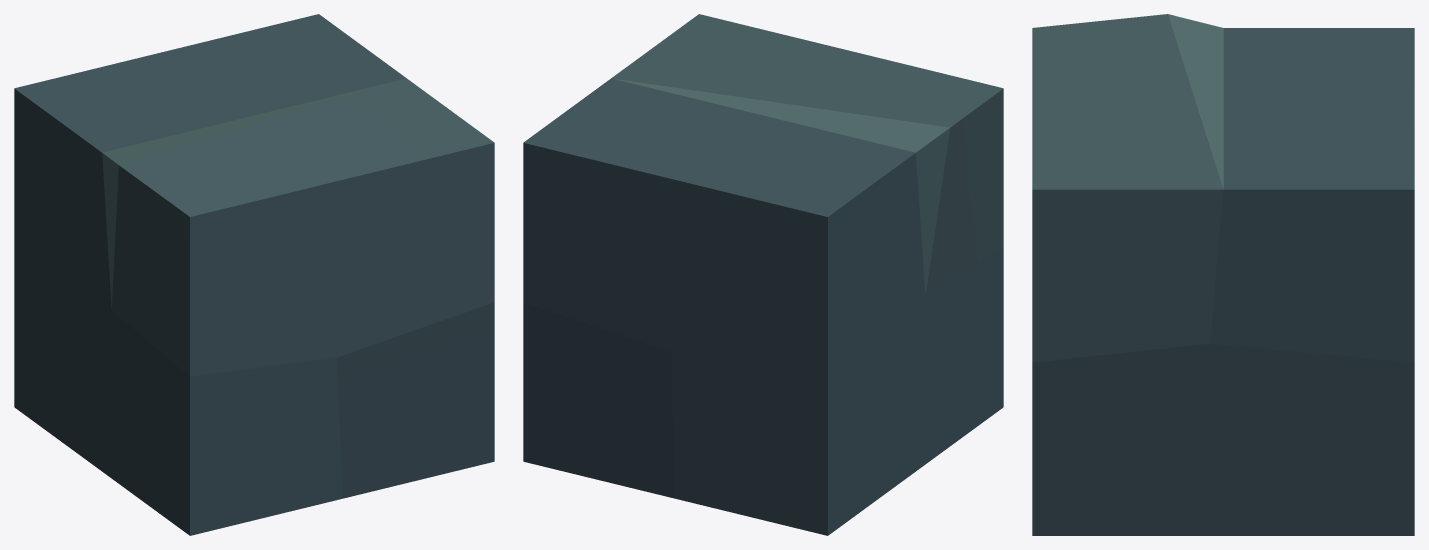
Rendered from backfill_1m.fbx.
3 renders of one model, left to right at view 1: azimuth 30°, elevation 25°; view 2: azimuth 150°, elevation 25°; view 3: azimuth 270°, elevation 25°, orthographic. The views are drawn at different scales.
Parts seen in each view (by area): view 1: backfill_1m; view 2: backfill_1m; view 3: backfill_1m.
Boxes of the visible parts, <box> form: backfill_1m: <box>14,14,494,535</box>; backfill_1m: <box>523,14,1003,535</box>; backfill_1m: <box>1032,14,1414,535</box>.
Bounding box in the file's own units: 103 × 103 × 100.
